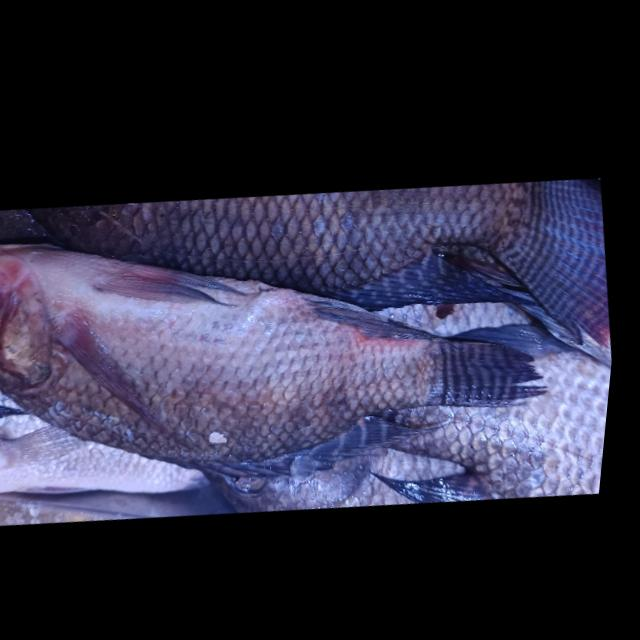Tilapia: (0, 158, 577, 556), (0, 118, 625, 440)
